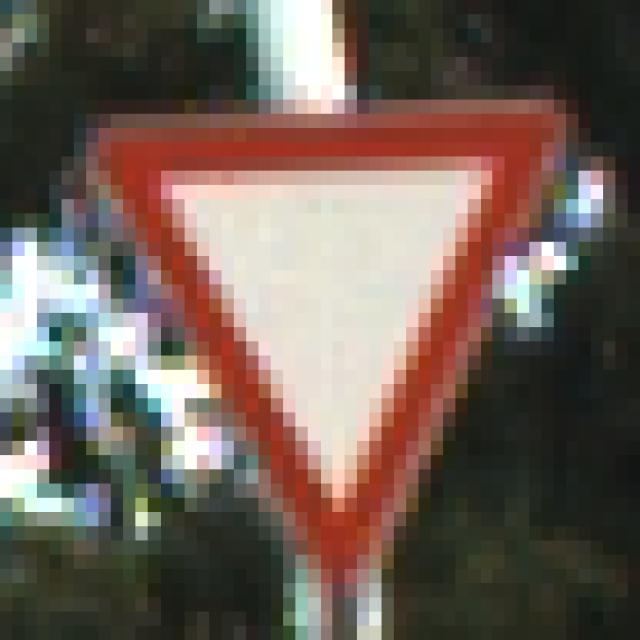Give Way: (63, 72, 567, 570)
